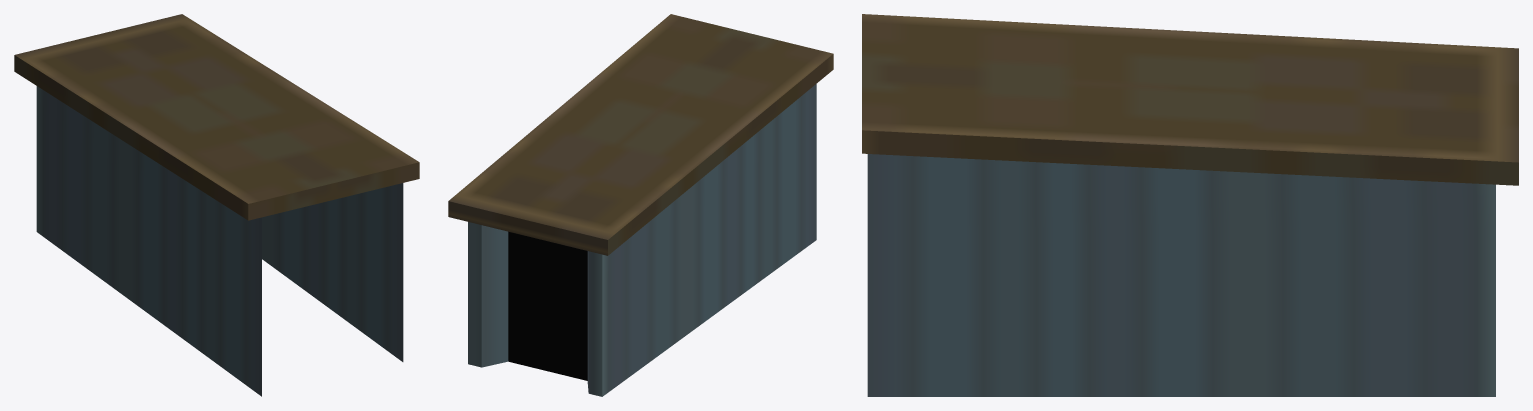
The model's file is roof_window_v2a001.fbx.
3 renders of one model, left to right at view 1: azimuth 30°, elevation 25°; view 2: azimuth 150°, elevation 25°; view 3: azimuth 270°, elevation 25°, orthographic. The views are drawn at different scales.
Parts seen in each view (by area): view 1: roof_window_v2a001; view 2: roof_window_v2a001; view 3: roof_window_v2a001.
Boxes of the visible parts, box(x1,y1,x2,y2) form: roof_window_v2a001: box(14, 14, 419, 396); roof_window_v2a001: box(448, 14, 833, 396); roof_window_v2a001: box(862, 14, 1518, 396).
Bounding box in the file's own units: 148 × 164 × 354.
